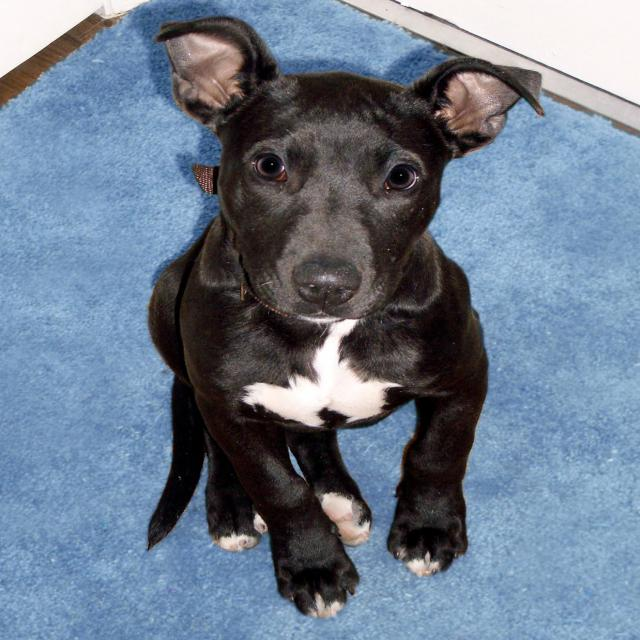eye: (244, 144, 294, 190), (376, 158, 428, 198)
